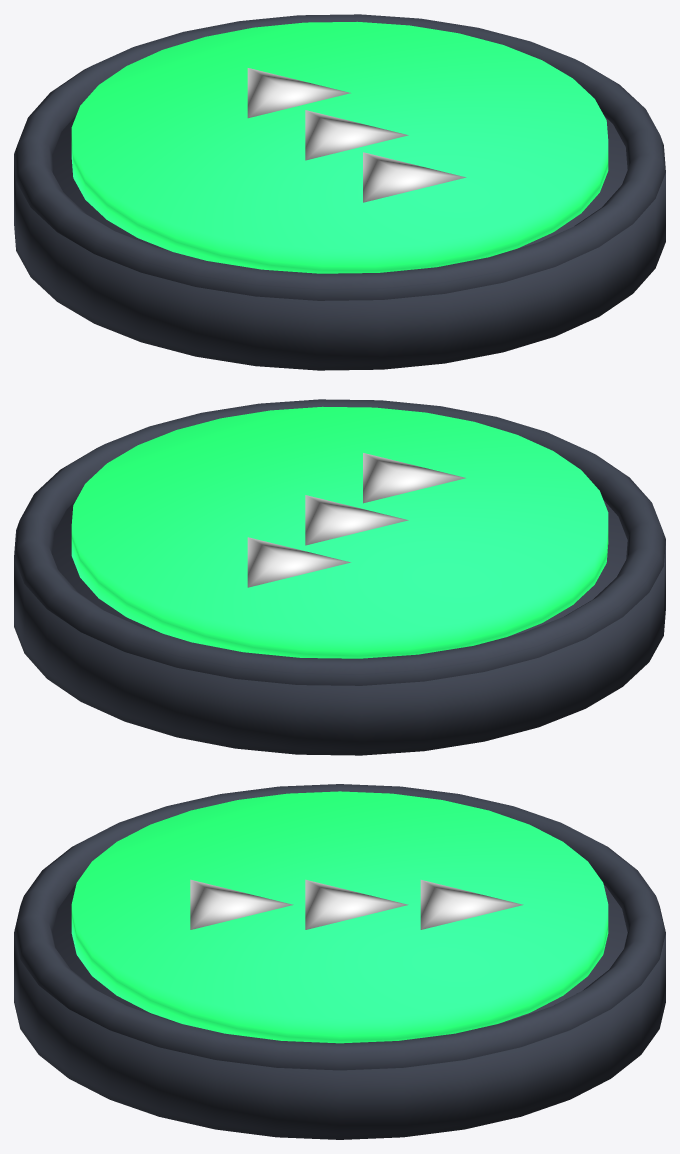
File: BouncePad.fbx
The picture shows the model from 3 angles, top to bottom: view 1: azimuth 30°, elevation 25°; view 2: azimuth 150°, elevation 25°; view 3: azimuth 270°, elevation 25°; orthographic projection.
Visible parts, largest first — view 1: PadTop, BouncePad_Body; view 2: PadTop, BouncePad_Body; view 3: PadTop, BouncePad_Body.
Boxes of the visible parts, <box> form: PadTop: <box>71,21,608,273</box>; BouncePad_Body: <box>14,14,665,370</box>; PadTop: <box>71,406,608,658</box>; BouncePad_Body: <box>14,399,665,755</box>; PadTop: <box>71,791,608,1043</box>; BouncePad_Body: <box>14,784,665,1139</box>.
Size of the model in its own units: 1.7 by 0.3 by 1.7.
Materials: 3 (2 with a texture image).
